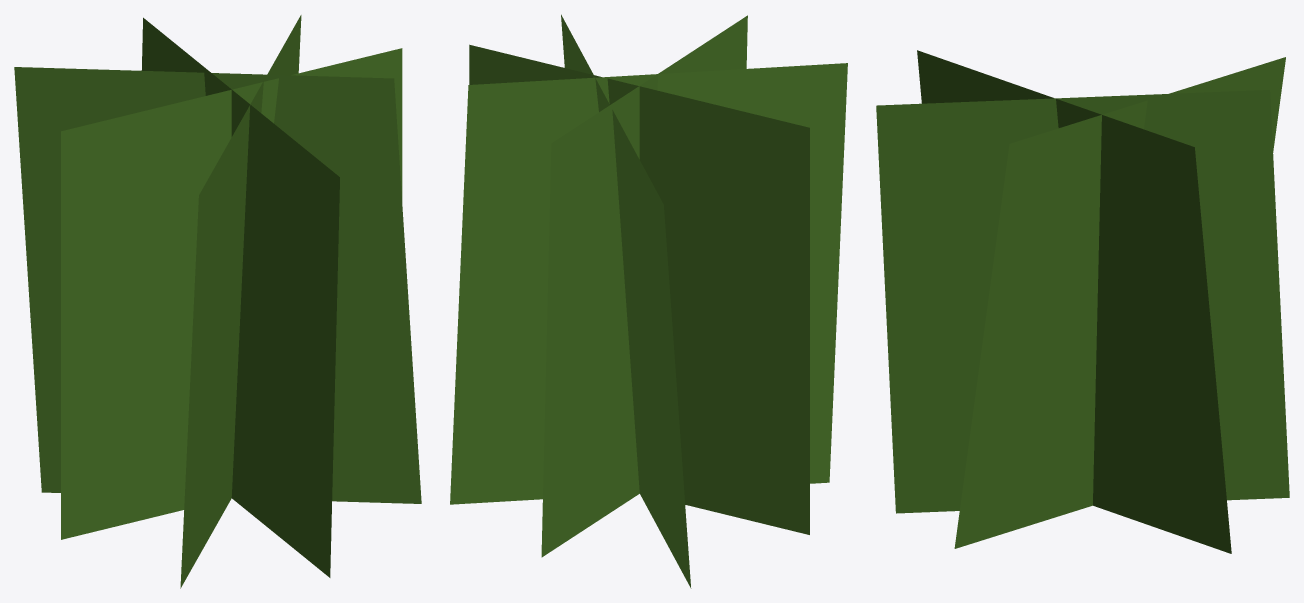
Rendered from grass-clump.glb.
3 renders of one model, left to right at view 1: azimuth 30°, elevation 25°; view 2: azimuth 150°, elevation 25°; view 3: azimuth 270°, elevation 25°, orthographic.
Bounding box in the file's own units: 0.35 × 0.4272 × 0.3672.
